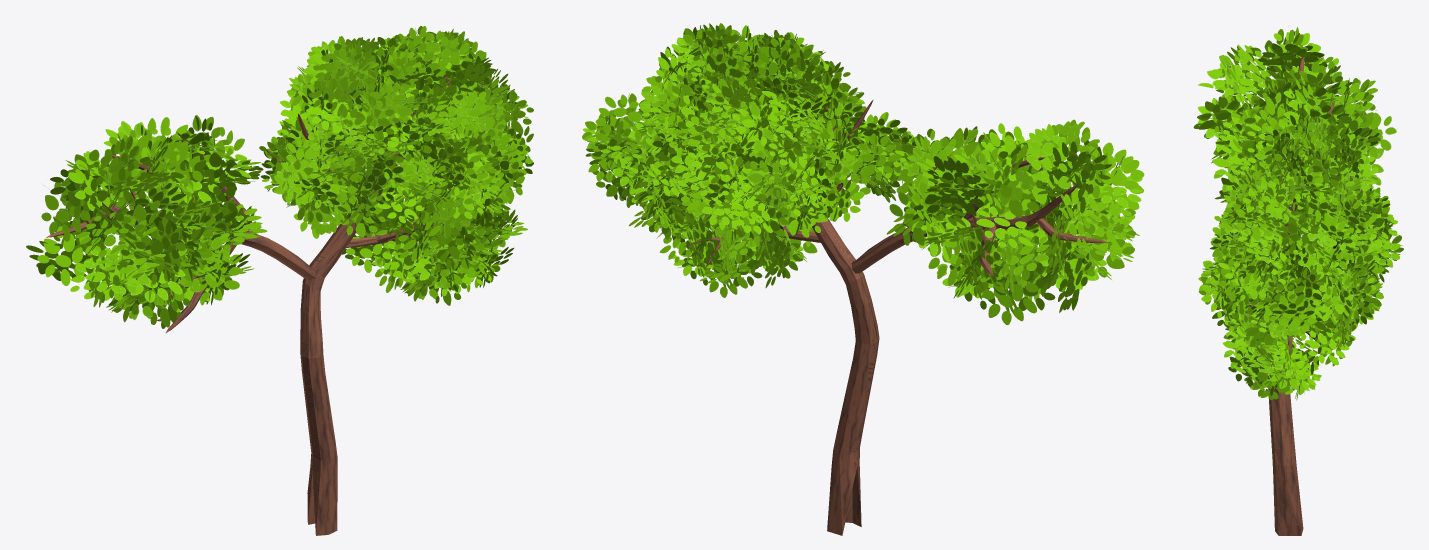
The model's file is StreetTreeYoung.obj.
The picture shows the model from 3 angles, left to right: view 1: azimuth 30°, elevation 25°; view 2: azimuth 150°, elevation 25°; view 3: azimuth 270°, elevation 25°; orthographic projection. The views are drawn at different scales.
Parts seen in each view (by area): view 1: part1, part0; view 2: part1, part0; view 3: part1, part0.
Part boxes in pixels (x1,y1,x2,y2): part1: [26, 26, 533, 328]; part0: [46, 74, 450, 535]; part1: [582, 23, 1144, 325]; part0: [684, 99, 1109, 535]; part1: [1193, 27, 1403, 400]; part0: [1220, 57, 1360, 535].
Size of the model in its own units: 5.67 by 5.1 by 2.4.
2 materials, 2 textured.
